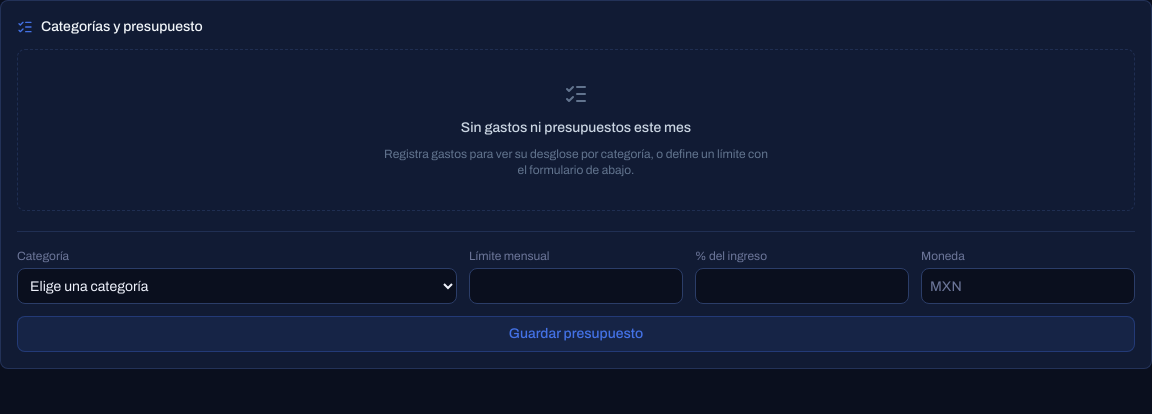
it: CategoryBreakdownPanel budget form › does not ask for a refetch when the save fails
Select "🍽 Alimentacion" in the dropdown labelled "Categoría" at (237, 286), box [17, 268, 457, 304]
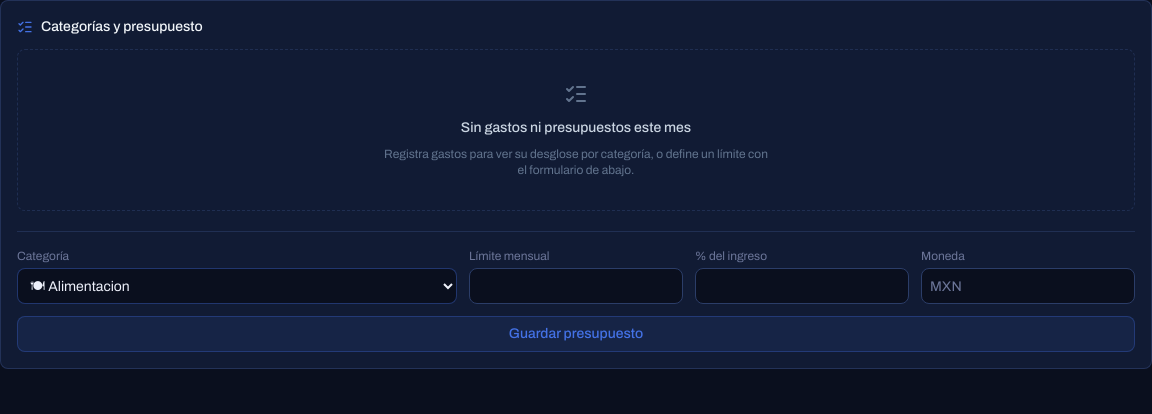
Type "3000" into the number field labelled "Límite mensual".
click(576, 286); type("3000")  # box [469, 268, 683, 304]
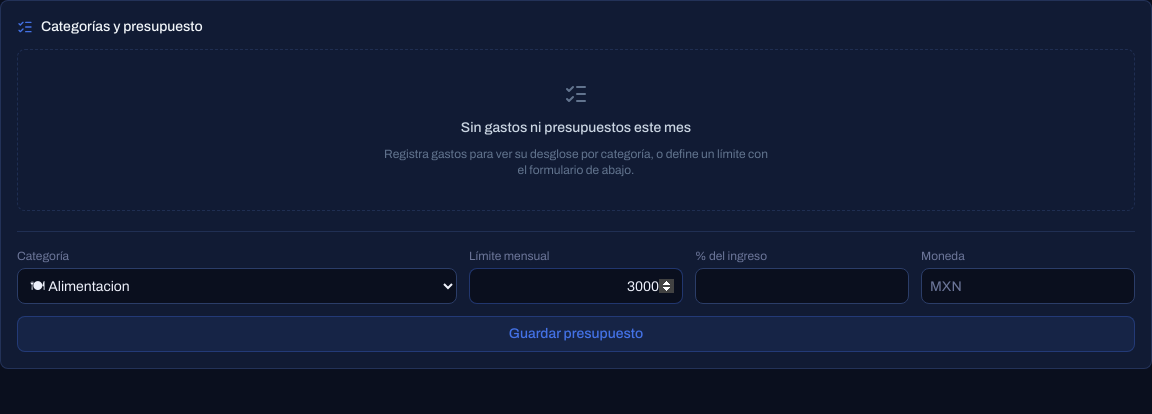
Click the button "Guardar presupuesto".
click(576, 334)  # box [17, 316, 1135, 352]
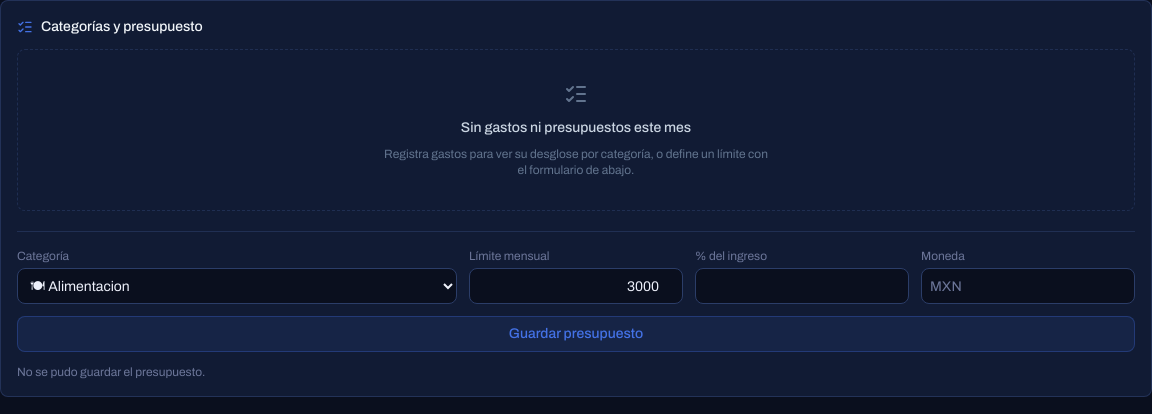
Expected: the text "No se pudo guardar el presupuesto." is shown, [17, 365, 205, 379]
